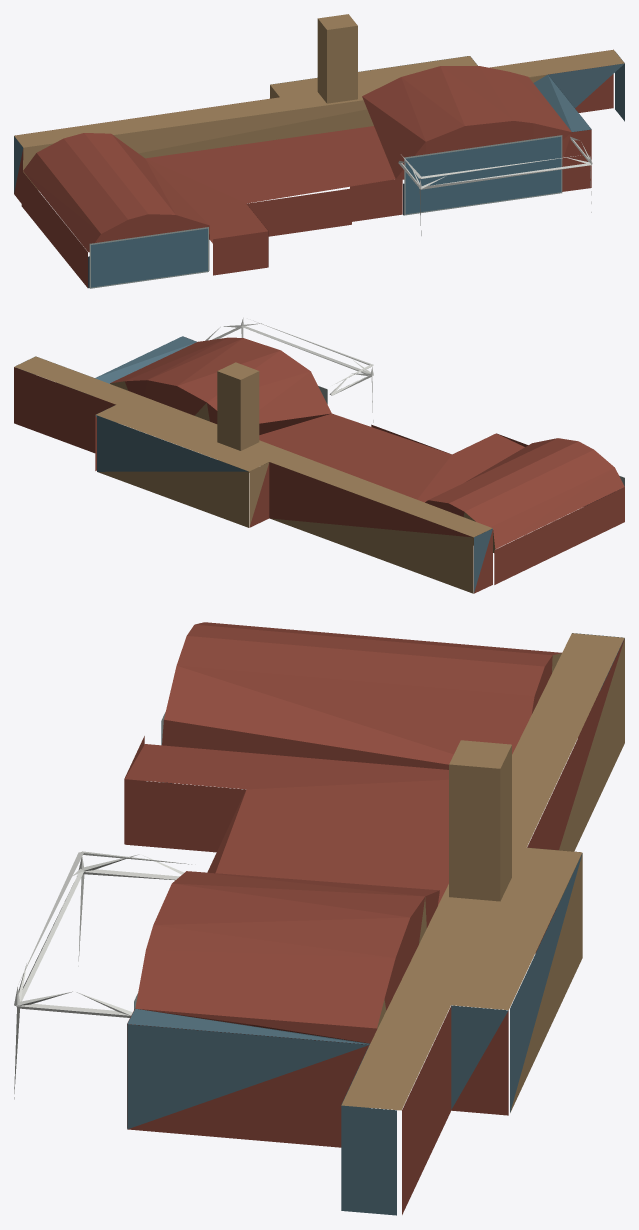
File: pllek.lod2.glb
3 views of the same model, one above another, from view 1: azimuth 30°, elevation 25°; view 2: azimuth 150°, elevation 25°; view 3: azimuth 270°, elevation 25° (orthographic). The views are drawn at different scales.
Visible parts, largest first — view 1: lod2; view 2: lod2; view 3: lod2.
Boxes of the visible parts, x1,y1,x2,y2 form: lod2: (14, 14, 624, 288); lod2: (14, 318, 624, 593); lod2: (14, 622, 624, 1215).
Bounding box in the file's own units: 57.59 × 12.55 × 29.21.
